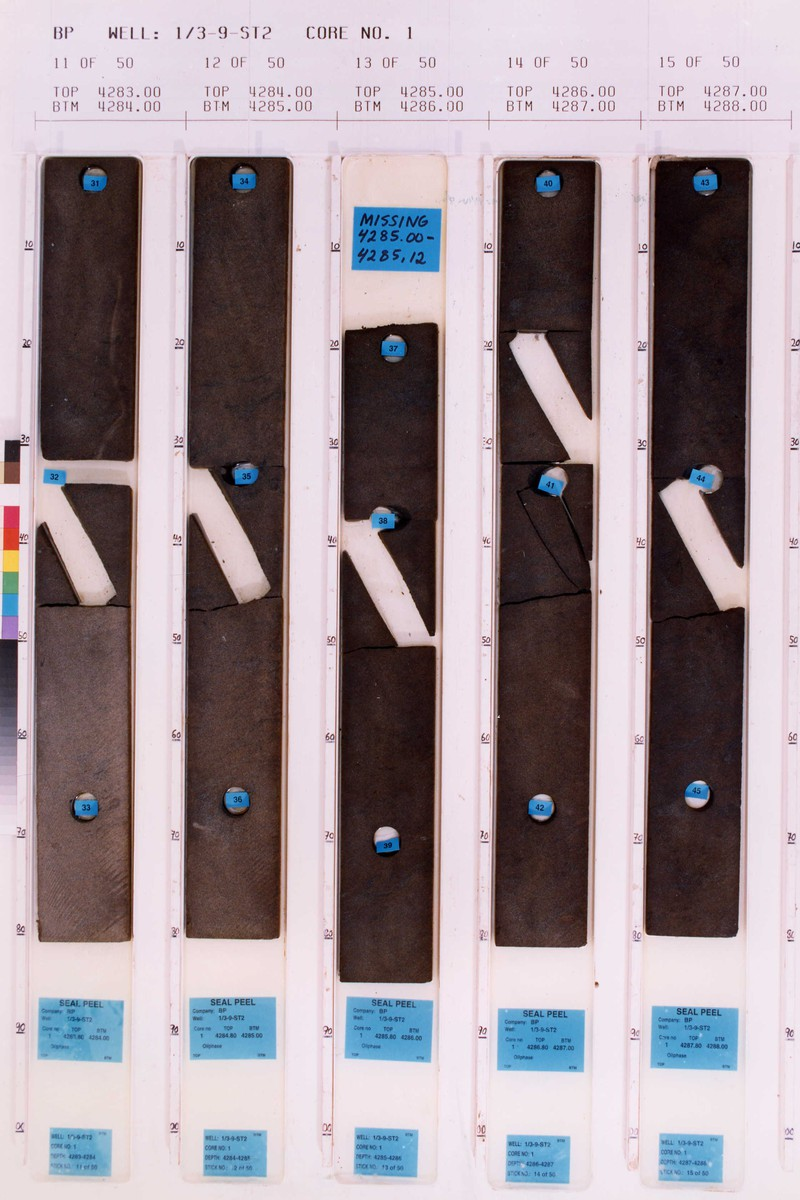core: (493, 158, 603, 956), (186, 154, 288, 943), (644, 153, 742, 940), (39, 156, 136, 943), (333, 322, 436, 984)
